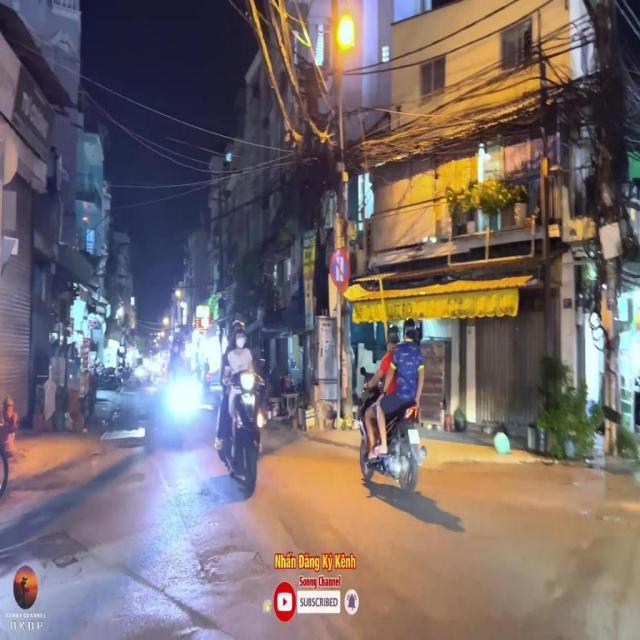cam_do_xe: (328, 248, 349, 289)
